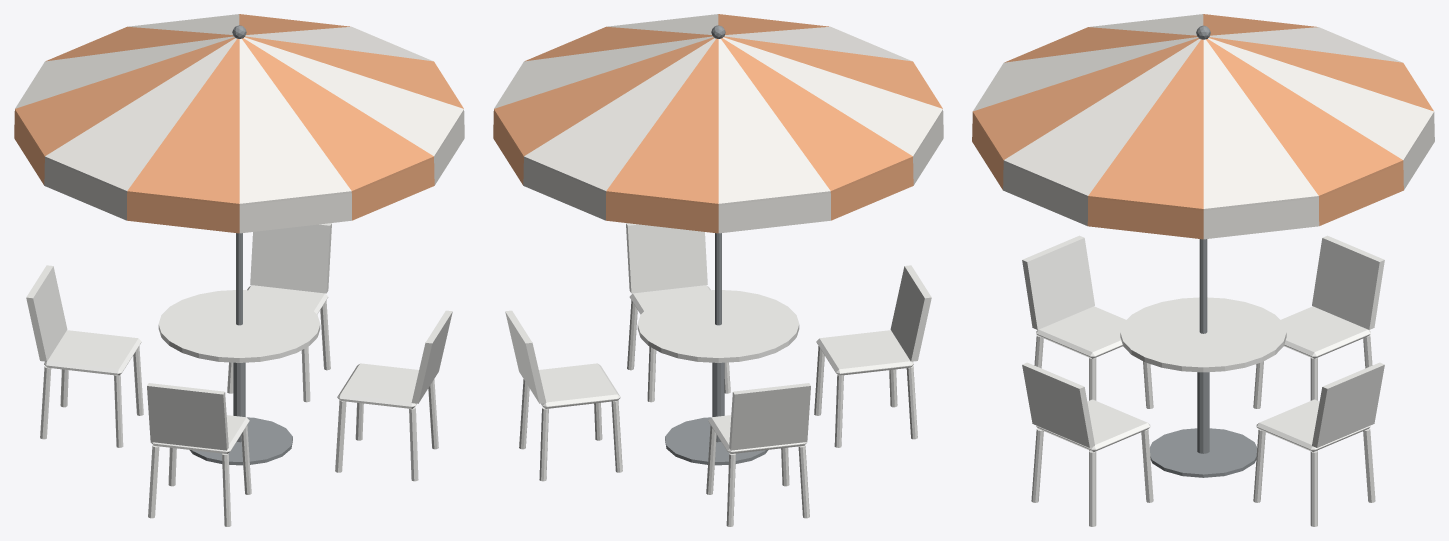
The model's file is umbrella_table.glb.
The picture shows the model from 3 angles, left to right: view 1: azimuth 30°, elevation 25°; view 2: azimuth 150°, elevation 25°; view 3: azimuth 270°, elevation 25°; orthographic projection. The views are drawn at different scales.
Visible parts, largest first — view 1: umbrella_table_white_u, umbrella_table_orange_u, umbrella_table_plastic_w, umbrella_table_steel; view 2: umbrella_table_orange_u, umbrella_table_white_u, umbrella_table_plastic_w, umbrella_table_steel; view 3: umbrella_table_plastic_w, umbrella_table_orange_u, umbrella_table_white_u, umbrella_table_steel.
Part boxes in pixels (x1=…): umbrella_table_white_u: x1=15, y1=14, x2=464, y2=233; umbrella_table_orange_u: x1=14, y1=14, x2=463, y2=233; umbrella_table_plastic_w: x1=26, y1=223, x2=452, y2=526; umbrella_table_steel: x1=189, y1=25, x2=292, y2=465; umbrella_table_orange_u: x1=493, y1=14, x2=942, y2=233; umbrella_table_white_u: x1=494, y1=14, x2=943, y2=233; umbrella_table_plastic_w: x1=505, y1=223, x2=931, y2=526; umbrella_table_steel: x1=665, y1=25, x2=768, y2=465; umbrella_table_plastic_w: x1=1022, y1=235, x2=1384, y2=526; umbrella_table_orange_u: x1=972, y1=14, x2=1433, y2=239; umbrella_table_white_u: x1=973, y1=14, x2=1434, y2=239; umbrella_table_steel: x1=1150, y1=25, x2=1256, y2=477.
Size of the model in its own units: 2.51 by 2.56 by 2.51.
